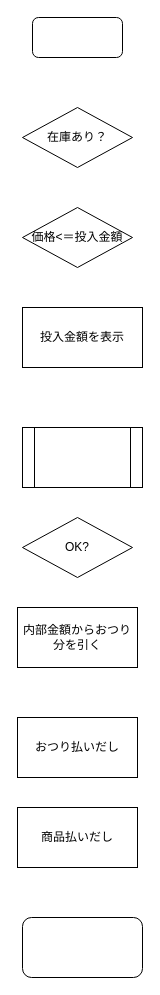
Image size: 160x995. Some labels were removed from this diagram. The shapes that lost their labels are listed below. From the top down, each one's centre as x and y in pixels, then its label:
[77,37]: Start
[82,457]: おつり計算
[82,947]: 終了
